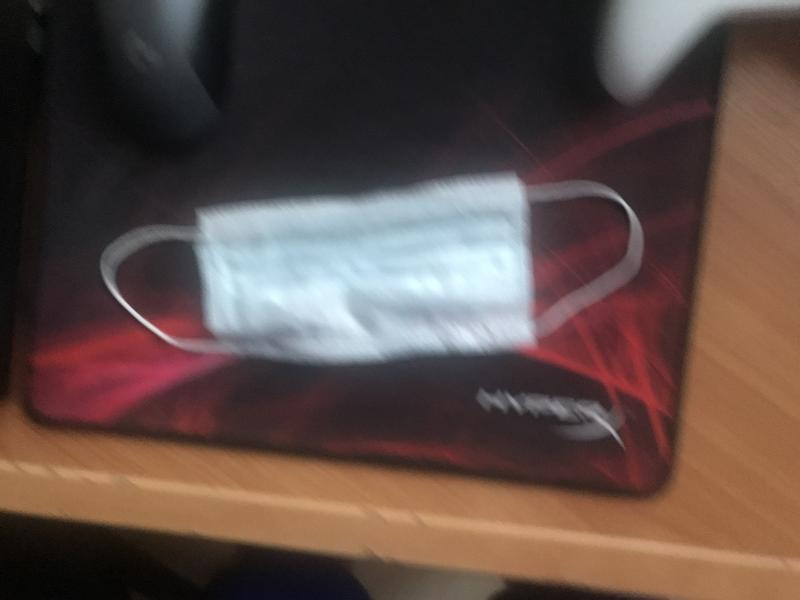medical_mask: (101, 177, 640, 363)
